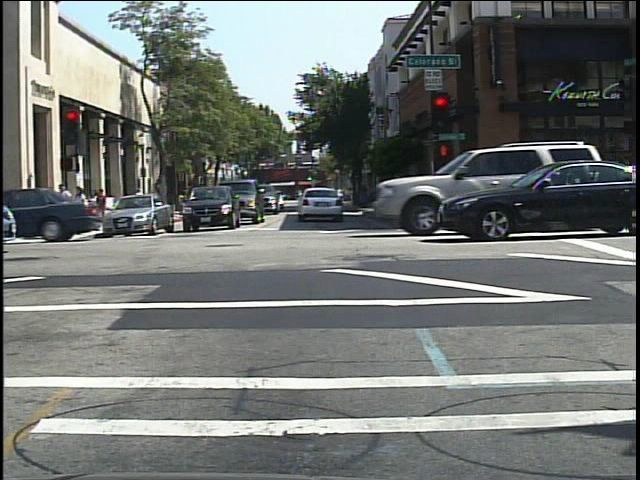person: (85, 187, 101, 229), (173, 184, 190, 219), (132, 183, 147, 215)
